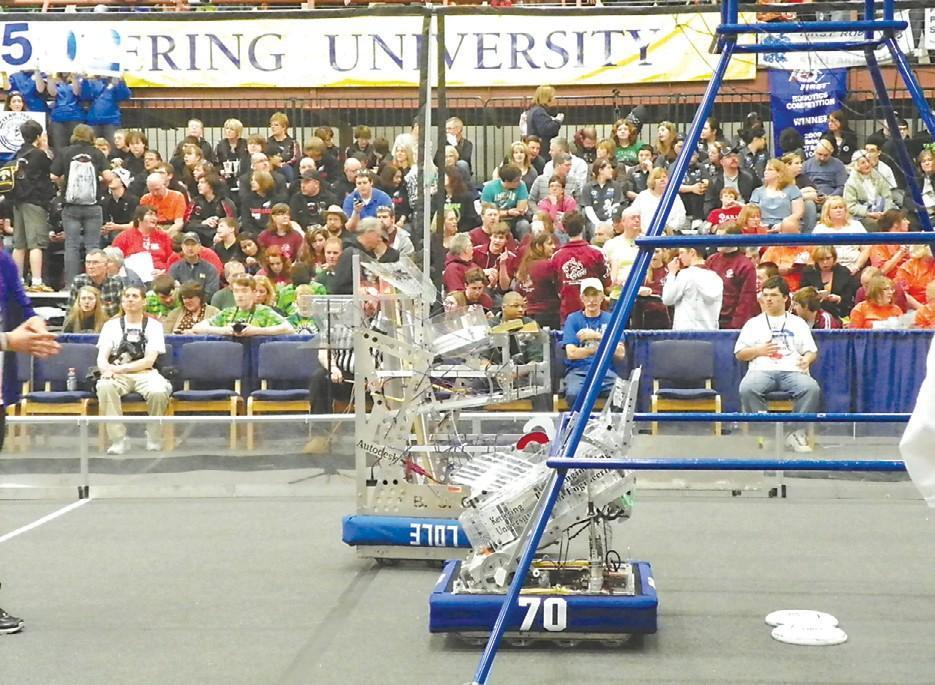robot: (433, 327, 665, 654), (338, 248, 563, 574)
